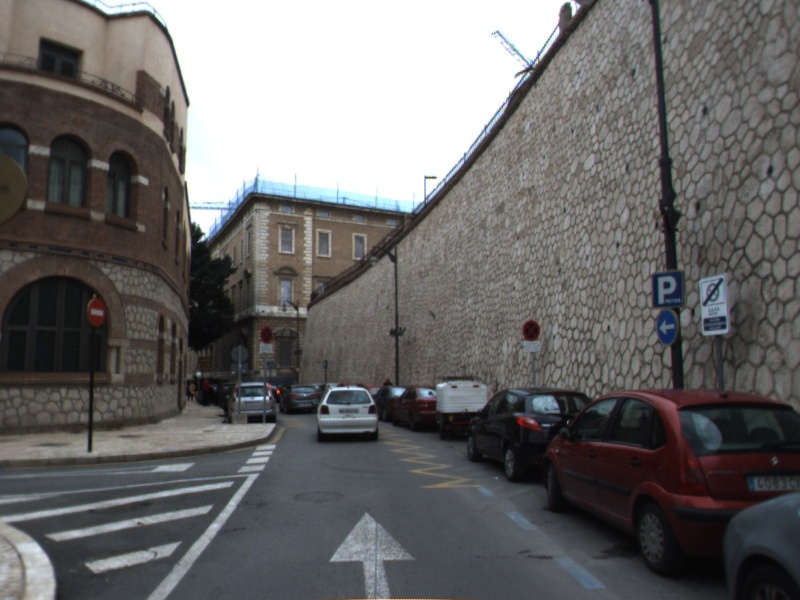STRAIGHT: (327, 511, 418, 600)
